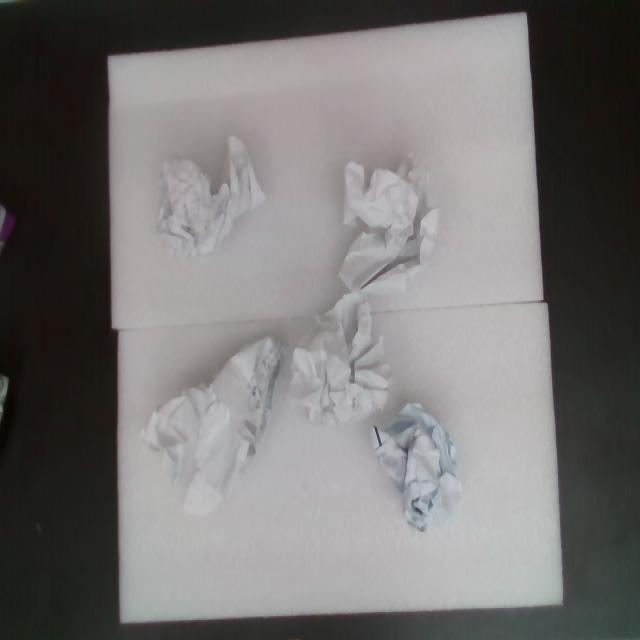paper: (94, 322, 352, 547), (103, 112, 295, 296), (342, 386, 493, 547), (329, 136, 461, 300), (287, 289, 406, 432)
